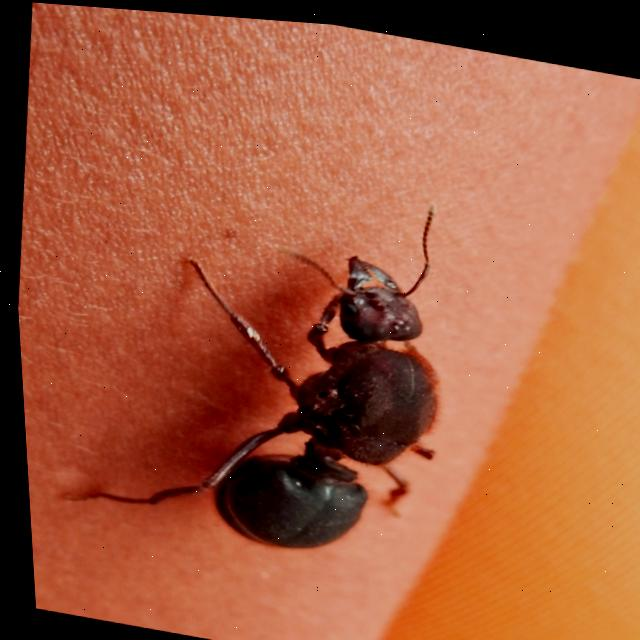Alive-Female-Dealate: (35, 134, 463, 571)
